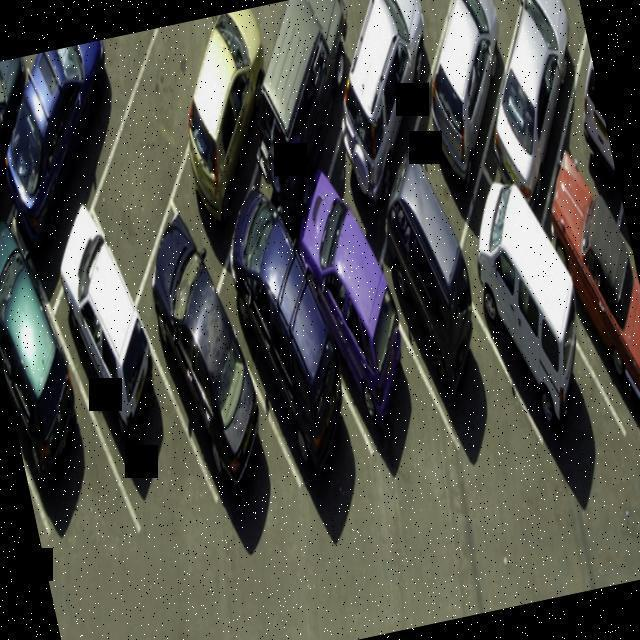car: (406, 167, 635, 495), (87, 198, 311, 530), (176, 192, 391, 510), (254, 189, 456, 502), (331, 184, 528, 478), (16, 241, 210, 524), (490, 152, 640, 497), (0, 230, 148, 558), (295, 0, 470, 238), (140, 6, 306, 238), (222, 0, 386, 226), (444, 0, 608, 208), (0, 31, 174, 225), (383, 0, 530, 190), (0, 51, 80, 249), (524, 0, 614, 176), (585, 169, 640, 446)
free: (59, 18, 246, 257)
